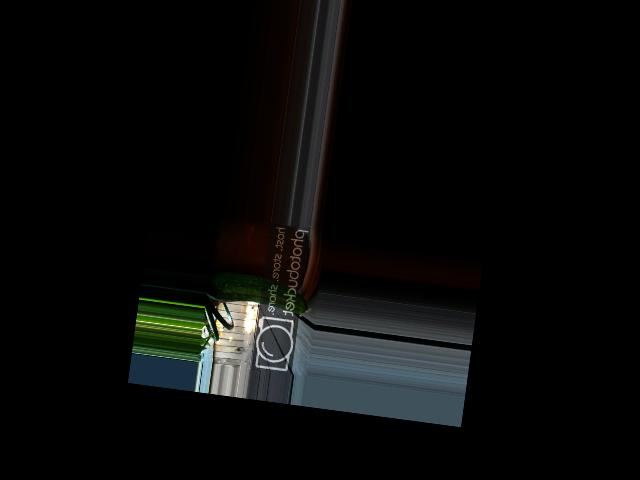cucumber: (206, 270, 315, 315)
